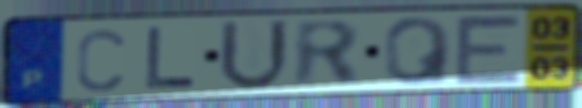C: (73, 26, 128, 94)
E: (452, 13, 526, 87)
L: (142, 24, 199, 92)
Q: (381, 15, 455, 88)
R: (292, 19, 364, 90)
U: (215, 18, 293, 94)
